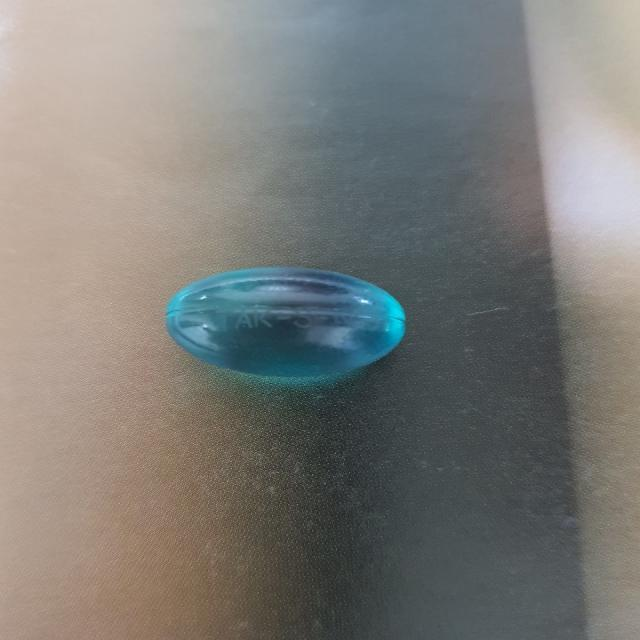pill: (148, 258, 438, 402)
